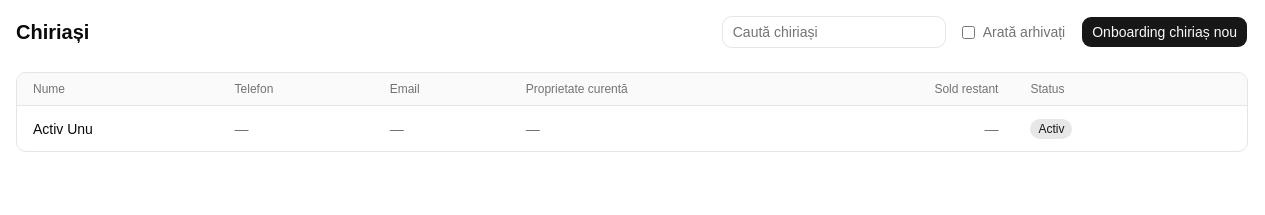
Test: TenantsListPage (FR-TEN-13) › show-archived toggle (mirrors Properties UX) › reveals archived tenants once toggled, with the archived badge
The image size is (1265, 215).
Step 1. Click the checkbox labelled "Arată arhivați" → (968, 32), box [962,26,975,38]
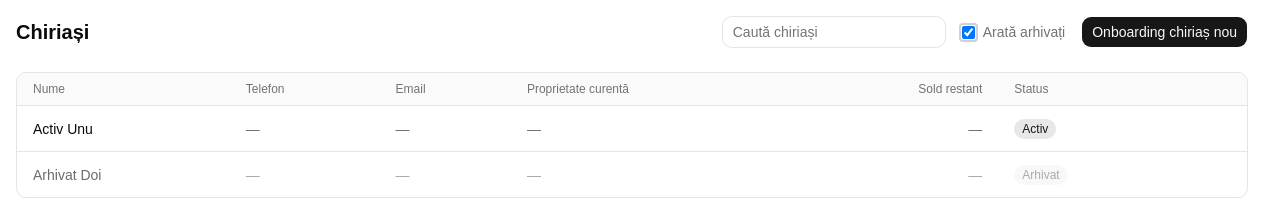
Now the text "Arhivat Doi" is shown, box [17,152,230,197]
Now the text "Arhivat" is shown, box [1014,165,1068,185]
